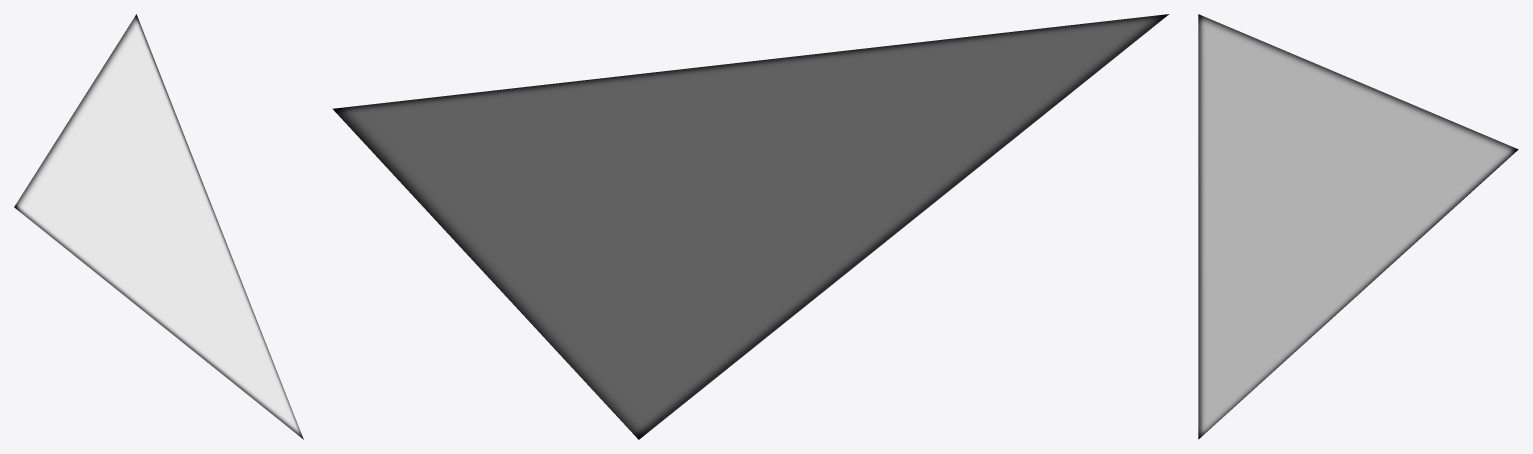
Rendered from corner_3-slope_outside_0-side.fbx.
The picture shows the model from 3 angles, left to right: view 1: azimuth 30°, elevation 25°; view 2: azimuth 150°, elevation 25°; view 3: azimuth 270°, elevation 25°; orthographic projection. The views are drawn at different scales.
Visible parts, largest first — view 1: corner_3-slope_outside_0-side; view 2: corner_3-slope_outside_0-side; view 3: corner_3-slope_outside_0-side.
Part boxes in pixels (bbox=[...]): corner_3-slope_outside_0-side: bbox=[14, 14, 303, 439]; corner_3-slope_outside_0-side: bbox=[332, 14, 1168, 439]; corner_3-slope_outside_0-side: bbox=[1198, 14, 1518, 439].
Bounding box in the file's own units: 100 × 100 × 100.
